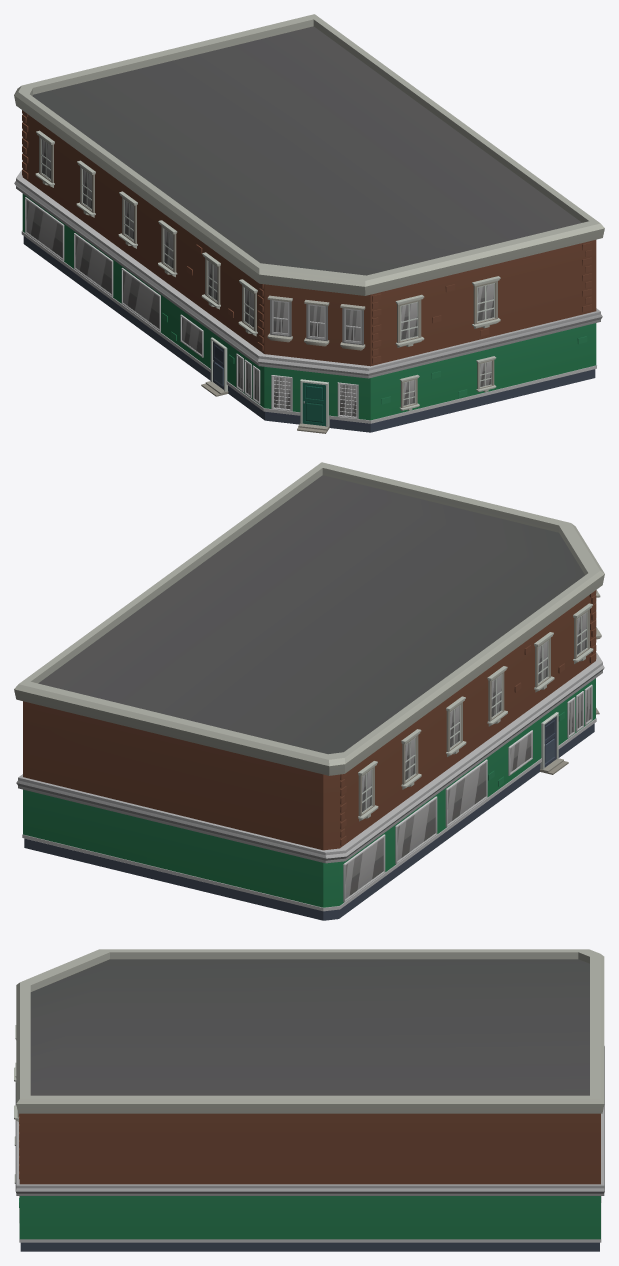
The model's file is Building_25_11_H.fbx.
3 views of the same model, one above another, from view 1: azimuth 30°, elevation 25°; view 2: azimuth 150°, elevation 25°; view 3: azimuth 270°, elevation 25° (orthographic). The views are drawn at different scales.
Visible parts, largest first — view 1: Building_25_11_H; view 2: Building_25_11_H; view 3: Building_25_11_H.
Part boxes in pixels (x1=…): Building_25_11_H: x1=14, y1=14, x2=604, y2=433; Building_25_11_H: x1=14, y1=462, x2=604, y2=920; Building_25_11_H: x1=14, y1=949, x2=604, y2=1251.
Bounding box in the file's own units: 1683 × 793 × 2729.
